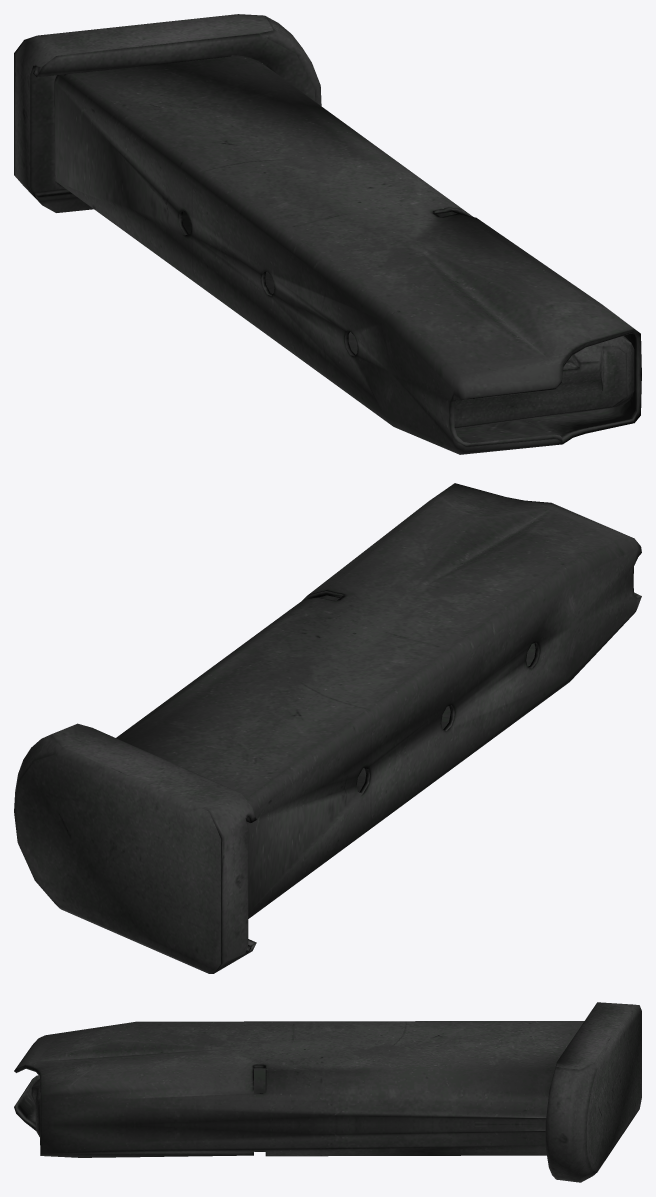
File: Mag9mm.fbx
3 renders of one model, top to bottom at view 1: azimuth 30°, elevation 25°; view 2: azimuth 150°, elevation 25°; view 3: azimuth 270°, elevation 25°, orthographic. The views are drawn at different scales.
Visible parts, largest first — view 1: Mag9mm; view 2: Mag9mm; view 3: Mag9mm.
Part boxes in pixels (x1=…): Mag9mm: x1=14, y1=14, x2=641, y2=454; Mag9mm: x1=14, y1=483, x2=641, y2=973; Mag9mm: x1=14, y1=1002, x2=641, y2=1182.
Size of the model in its own units: 0.0362 by 0.0216 by 0.1087.
